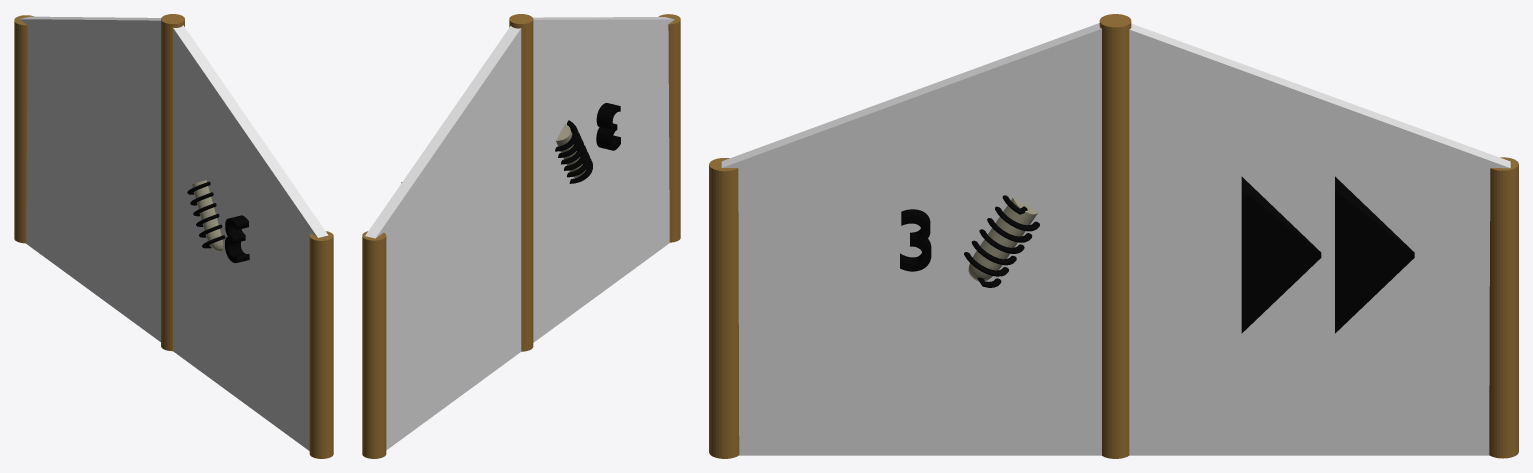
Rendered from gate2.fbx.
3 renders of one model, left to right at view 1: azimuth 30°, elevation 25°; view 2: azimuth 150°, elevation 25°; view 3: azimuth 270°, elevation 25°, orthographic. The views are drawn at different scales.
Parts seen in each view (by area): view 1: Left, Right, LeftCylnder, MiddleScylnder, RightCylinder, TextLeft, zıpzıpalt, Spiral.001; view 2: Right, Left, RightCylinder, MiddleScylnder, LeftCylnder, Spiral.001, TextLeft, zıpzıpalt; view 3: Left, Right, MiddleScylnder, LeftCylnder, RightCylinder, Cube, Cube.001, Spiral.001, zıpzıpalt, TextLeft.
Part boxes in pixels (box(x1,y1,x2,y2)): Left: box(173, 25, 328, 450); Right: box(19, 16, 160, 341); LeftCylnder: box(309, 231, 333, 458); MiddleScylnder: box(161, 14, 184, 351); RightCylinder: box(14, 15, 33, 243); TextLeft: box(225, 215, 249, 263); zıpzıpalt: box(191, 180, 223, 251); Spiral.001: box(187, 181, 225, 248); Right: box(365, 26, 521, 450); Left: box(533, 17, 674, 342); RightCylinder: box(362, 231, 386, 458); MiddleScylnder: box(509, 14, 533, 351); LeftCylnder: box(658, 14, 680, 242); Spiral.001: box(555, 120, 592, 183); TextLeft: box(596, 103, 620, 150); zıpzıpalt: box(556, 124, 585, 177); Left: box(721, 23, 1101, 455); Right: box(1129, 23, 1510, 455); MiddleScylnder: box(1099, 14, 1131, 458); LeftCylnder: box(709, 158, 739, 458); RightCylinder: box(1489, 157, 1518, 458); Cube: box(1241, 176, 1321, 333); Cube.001: box(1335, 176, 1414, 333); Spiral.001: box(964, 195, 1039, 287); zıpzıpalt: box(968, 197, 1038, 281); TextLeft: box(900, 209, 931, 271).
Size of the model in its own units: 108 by 600 by 1020.
